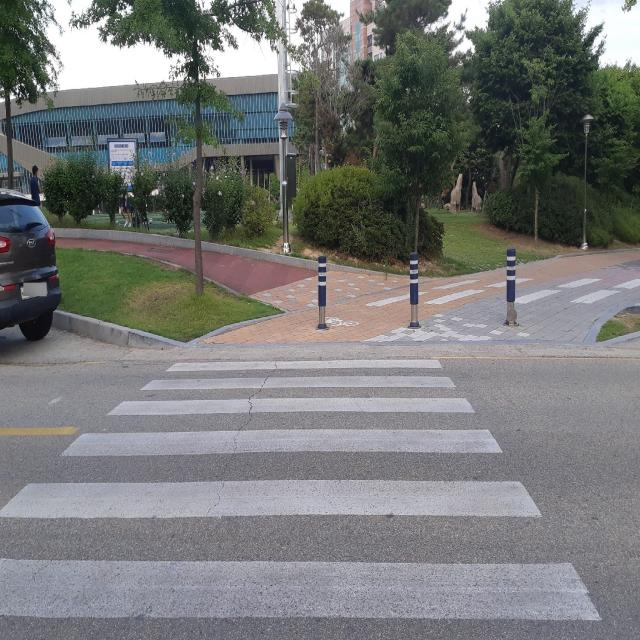횡단보도: (0, 358, 604, 625)
